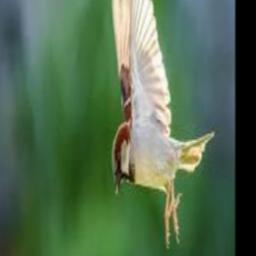Sparrow: (110, 0, 215, 247)
